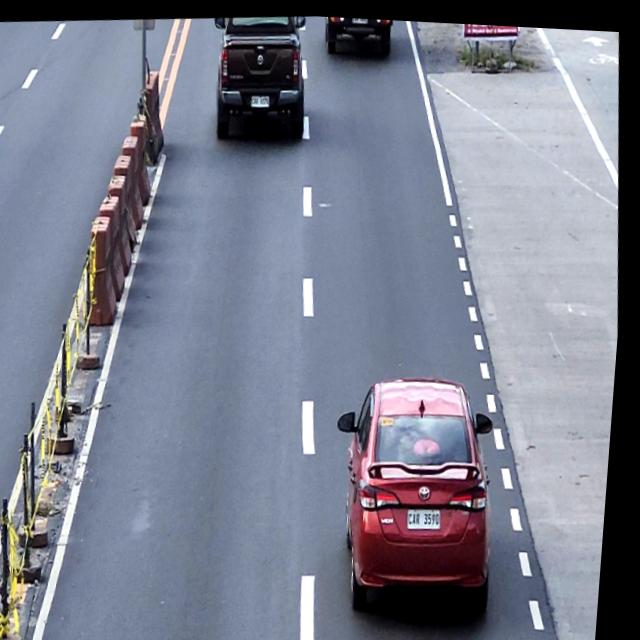Car: (329, 363, 514, 619), (206, 9, 315, 140), (322, 13, 395, 54)
License-Plate: (412, 499, 449, 526), (251, 91, 271, 105), (351, 14, 368, 21)
